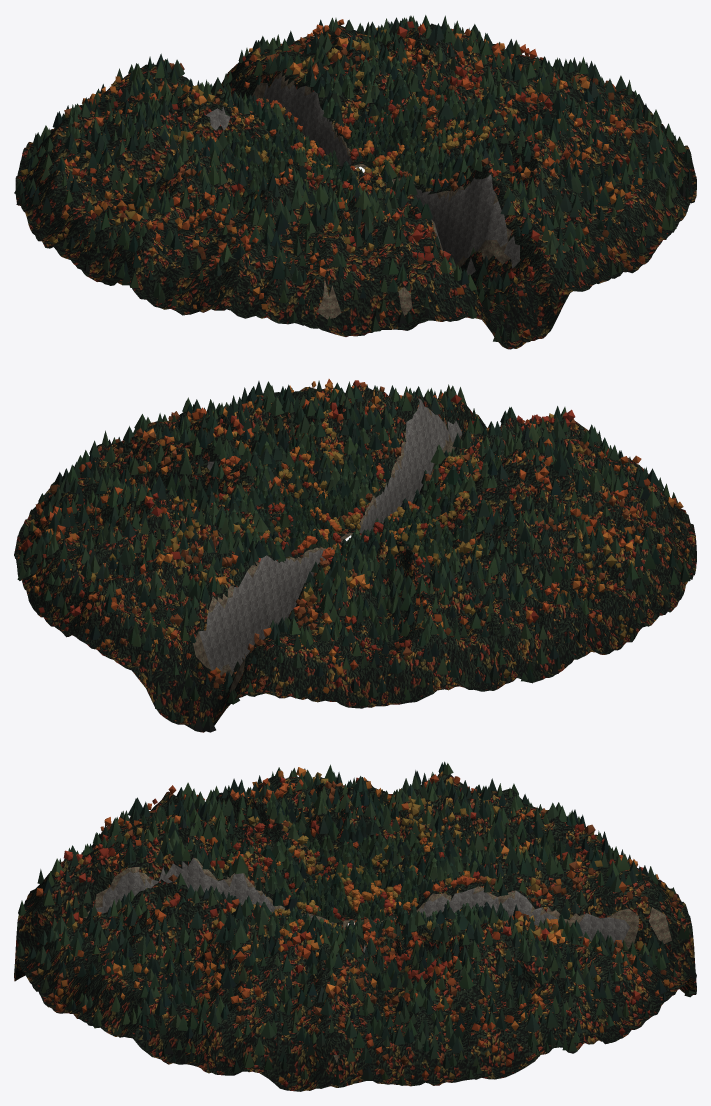
File: backdrop_near_rect_s22x18_autumn.glb
3 views of the same model, one above another, from view 1: azimuth 30°, elevation 25°; view 2: azimuth 150°, elevation 25°; view 3: azimuth 270°, elevation 25° (orthographic).
Visible parts, largest first — view 1: near_land_S, near_land_W, trees_land_S_0, trees_land_W_0, trees_land_E_0, trees_land_N_0, near_land_E, near_land_N; view 2: near_land_N, near_land_W, trees_land_N_0, trees_land_W_0, trees_land_E_0, trees_land_S_0, near_land_E, near_land_S; view 3: near_land_E, trees_land_E_0, near_land_S, trees_land_W_0, near_land_N, trees_land_N_0, trees_land_S_0, near_land_W.
Boxes of the visible parts, bbox=[...] form: near_land_S: bbox=[267, 123, 685, 349]; near_land_W: bbox=[15, 102, 323, 318]; trees_land_S_0: bbox=[272, 114, 680, 341]; trees_land_W_0: bbox=[14, 94, 340, 309]; trees_land_E_0: bbox=[363, 15, 693, 215]; trees_land_N_0: bbox=[33, 15, 429, 166]; near_land_E: bbox=[360, 25, 696, 216]; near_land_N: bbox=[27, 23, 435, 168]; near_land_N: bbox=[26, 506, 446, 732]; near_land_W: bbox=[388, 457, 696, 691]; trees_land_N_0: bbox=[34, 493, 438, 732]; trees_land_W_0: bbox=[374, 451, 692, 686]; trees_land_E_0: bbox=[17, 381, 350, 580]; trees_land_S_0: bbox=[279, 379, 677, 534]; near_land_E: bbox=[14, 393, 353, 589]; near_land_S: bbox=[274, 385, 668, 534]; near_land_E: bbox=[115, 914, 596, 1091]; trees_land_E_0: bbox=[116, 899, 591, 1087]; near_land_S: bbox=[14, 814, 345, 1036]; trees_land_W_0: bbox=[130, 761, 580, 918]; near_land_N: bbox=[380, 815, 696, 1044]; trees_land_N_0: bbox=[371, 805, 696, 1035]; trees_land_S_0: bbox=[15, 797, 341, 1034]; near_land_W: bbox=[147, 771, 595, 921].
Bounding box in the file's own units: 576 × 173 × 576.
4 materials, 3 textured.
